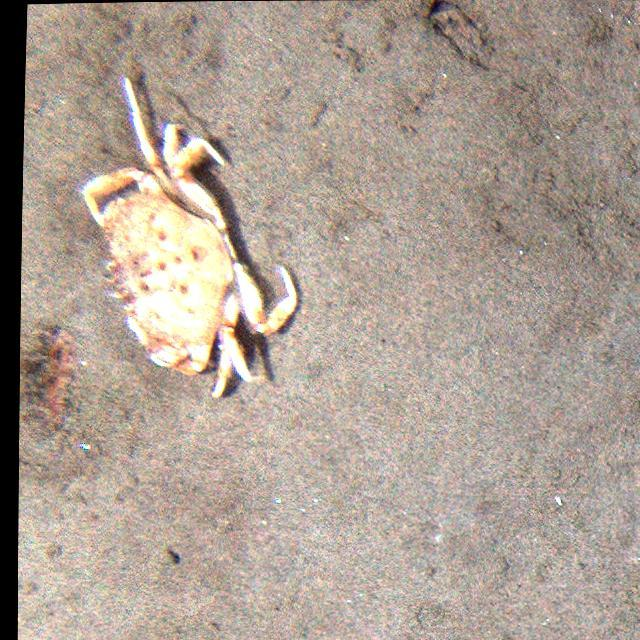crab: (93, 74, 303, 394)
